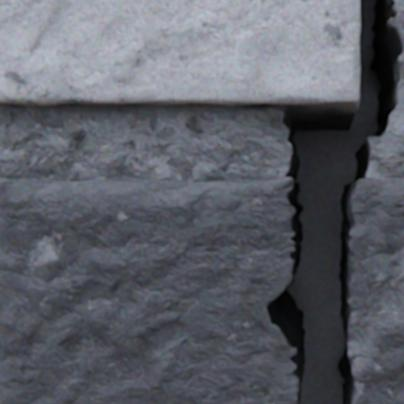brick: (0, 0, 359, 106)
broken_brick: (0, 177, 299, 403), (347, 178, 403, 403)
crack: (268, 0, 403, 403)
